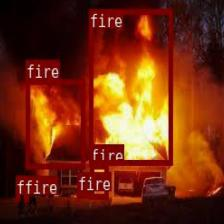fire: (88, 9, 171, 165), (25, 78, 85, 168), (89, 163, 108, 198), (77, 190, 90, 197), (24, 195, 28, 201), (15, 194, 18, 200)
